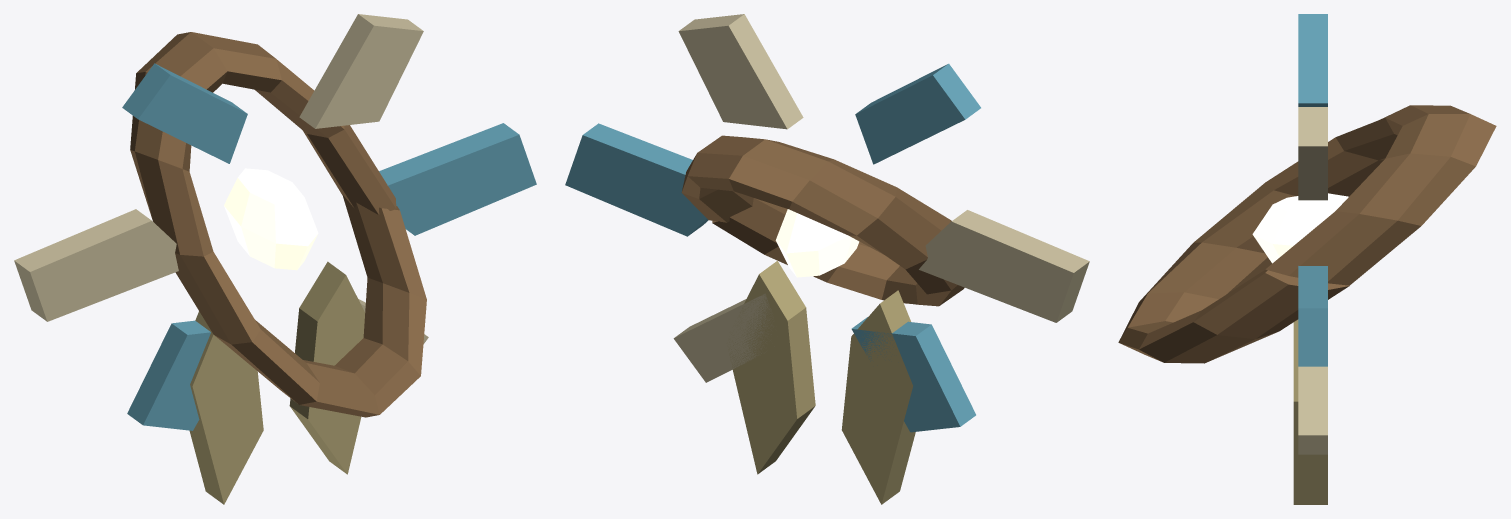
Rendered from solar.glb.
3 views of the same model, side by side, from view 1: azimuth 30°, elevation 25°; view 2: azimuth 150°, elevation 25°; view 3: azimuth 270°, elevation 25° (orthographic). The views are drawn at different scales.
Visible parts, largest first — view 1: body, wing_l, wing_r; view 2: body, wing_r, wing_l; view 3: body, wing_r.
Boxes of the visible parts, x1,y1,x2,y2 form: body: (14, 14, 536, 430); wing_l: (189, 311, 263, 504); wing_r: (289, 261, 364, 474); body: (565, 14, 1089, 432); wing_r: (728, 261, 815, 474); wing_l: (841, 290, 915, 504); body: (1118, 14, 1496, 454); wing_r: (1293, 319, 1327, 504).
Bounding box in the file's own units: 3.25 × 2.7 × 2.25.
